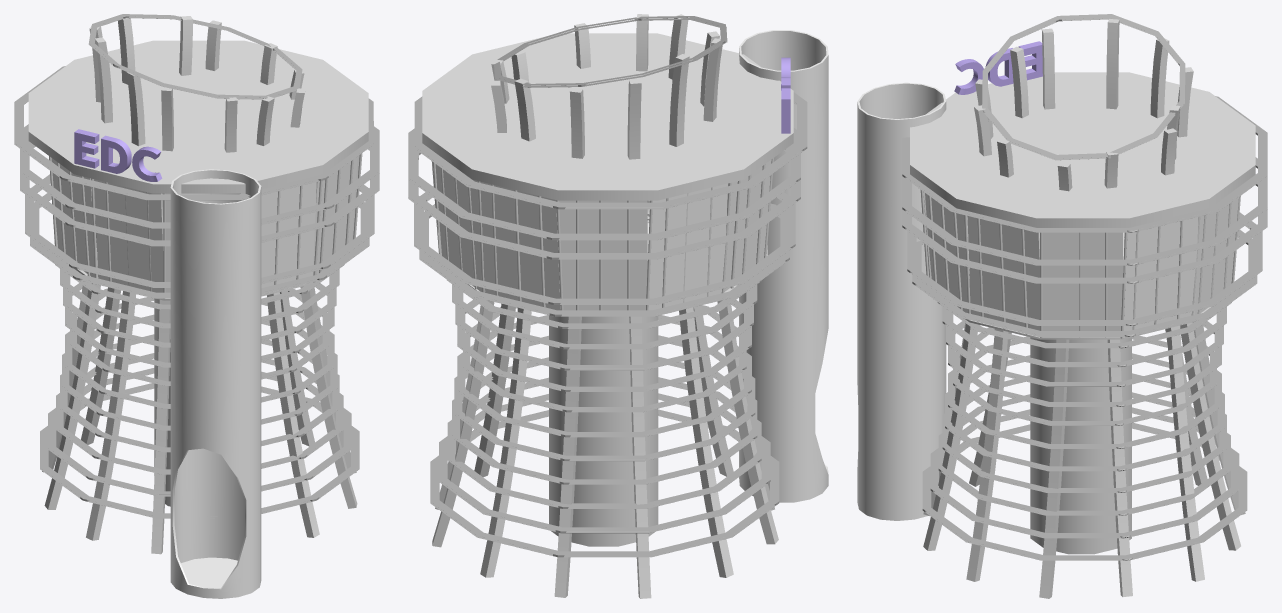
File: Rain Radarfbx.fbx
3 renders of one model, left to right at view 1: azimuth 30°, elevation 25°; view 2: azimuth 150°, elevation 25°; view 3: azimuth 270°, elevation 25°, orthographic. The views are drawn at different scales.
Parts seen in each view (by area): view 1: CN_Space_Fangzi_05_glass, CT_Boxes_BaseCoulmn_01_base_21, CT_Boxes_Transparant_02_base_8, CT_Boxes_Transparant_02_base_4, CT_MF_Pillar_A_01_base_7, CT_MF_Pillar_A_01_base_4, CT_MF_Pillar_A_01_base_15, CT_MF_Pillar_A_01_base_6, CT_CT_SpecialCha_10_base_7, CT_CT_SpecialCha_10_base_13, CT_MF_Pillar_A_01_base_16, CT_MF_Pillar_A_01_base_5 (+33 smaller); view 2: CT_Boxes_BaseCoulmn_01_base_21, CN_Space_Fangzi_05_glass, CT_Boxes_BaseCoulmn_01_base_23, CT_Boxes_Transparant_02_base_11, CT_Boxes_Transparant_02_base_9, CT_Boxes_Transparant_02_base_3, CT_MF_Pillar_A_01_base_7, CT_MF_Pillar_A_01_base_15, CT_MF_Pillar_A_01_base_6, CT_MF_Pillar_A_01_base_4, CT_MF_Pillar_A_01_base_16, CT_MF_Pillar_A_01_base_5 (+31 smaller); view 3: CT_Boxes_BaseCoulmn_01_base_21, CN_Space_Fangzi_05_glass, CT_Boxes_BaseCoulmn_01_base_23, CT_Boxes_Transparant_02_base_2, CT_Boxes_Transparant_02_base_5, CT_Boxes_Transparant_02_base_6, CT_MF_Pillar_A_01_base_15, CT_MF_Pillar_A_01_base_6, CT_MF_Pillar_A_01_base_4, CT_MF_Pillar_A_01_base_16, CT_MF_Pillar_A_01_base_3, CT_MF_Pillar_A_01_base_7 (+32 smaller).
Boxes of the visible parts, bbox=[...] form: CN_Space_Fangzi_05_glass: bbox=[170, 169, 261, 598]; CT_Boxes_BaseCoulmn_01_base_21: bbox=[28, 40, 368, 193]; CT_Boxes_Transparant_02_base_8: bbox=[94, 179, 163, 292]; CT_Boxes_Transparant_02_base_4: bbox=[261, 182, 316, 288]; CT_MF_Pillar_A_01_base_7: bbox=[14, 66, 373, 200]; CT_MF_Pillar_A_01_base_4: bbox=[25, 174, 374, 287]; CT_MF_Pillar_A_01_base_15: bbox=[40, 383, 359, 518]; CT_MF_Pillar_A_01_base_6: bbox=[20, 124, 379, 228]; CT_CT_SpecialCha_10_base_7: bbox=[86, 291, 136, 540]; CT_CT_SpecialCha_10_base_13: bbox=[267, 292, 319, 537]; CT_MF_Pillar_A_01_base_16: bbox=[48, 368, 351, 496]; CT_MF_Pillar_A_01_base_5: bbox=[20, 142, 379, 246]; CT_Boxes_BaseCoulmn_01_base_21: bbox=[422, 33, 793, 200]; CN_Space_Fangzi_05_glass: bbox=[739, 30, 828, 502]; CT_Boxes_BaseCoulmn_01_base_23: bbox=[549, 315, 658, 546]; CT_Boxes_Transparant_02_base_11: bbox=[559, 200, 647, 310]; CT_Boxes_Transparant_02_base_9: bbox=[648, 183, 727, 310]; CT_Boxes_Transparant_02_base_3: bbox=[480, 181, 560, 310]; CT_MF_Pillar_A_01_base_7: bbox=[414, 92, 807, 209]; CT_MF_Pillar_A_01_base_15: bbox=[430, 409, 779, 557]; CT_MF_Pillar_A_01_base_6: bbox=[408, 128, 800, 240]; CT_MF_Pillar_A_01_base_4: bbox=[414, 186, 795, 304]; CT_MF_Pillar_A_01_base_16: bbox=[439, 393, 770, 533]; CT_MF_Pillar_A_01_base_5: bbox=[408, 146, 800, 259]; CT_Boxes_BaseCoulmn_01_base_21: bbox=[910, 72, 1255, 227]; CN_Space_Fangzi_05_glass: bbox=[857, 82, 946, 520]; CT_Boxes_BaseCoulmn_01_base_23: bbox=[1030, 337, 1131, 554]; CT_Boxes_Transparant_02_base_2: bbox=[1042, 232, 1122, 337]; CT_Boxes_Transparant_02_base_5: bbox=[1123, 217, 1198, 330]; CT_Boxes_Transparant_02_base_6: bbox=[967, 216, 1039, 330]; CT_MF_Pillar_A_01_base_15: bbox=[922, 422, 1247, 560]; CT_MF_Pillar_A_01_base_6: bbox=[902, 157, 1267, 265]; CT_MF_Pillar_A_01_base_4: bbox=[907, 212, 1262, 325]; CT_MF_Pillar_A_01_base_16: bbox=[930, 407, 1239, 538]; CT_MF_Pillar_A_01_base_3: bbox=[982, 14, 1185, 160]; CT_MF_Pillar_A_01_base_7: bbox=[902, 96, 1267, 232].
Size of the model in its own units: 1061 by 1499 by 1169.
